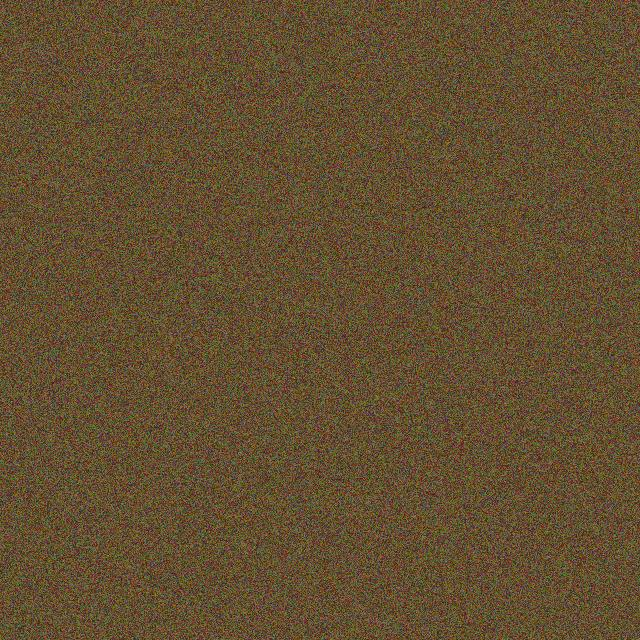metal_debris: (309, 224, 353, 285)
